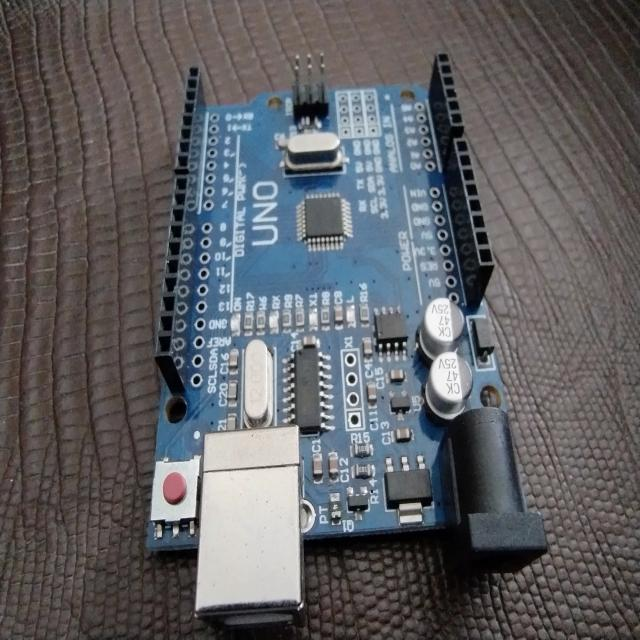arduino: (139, 50, 556, 639)
